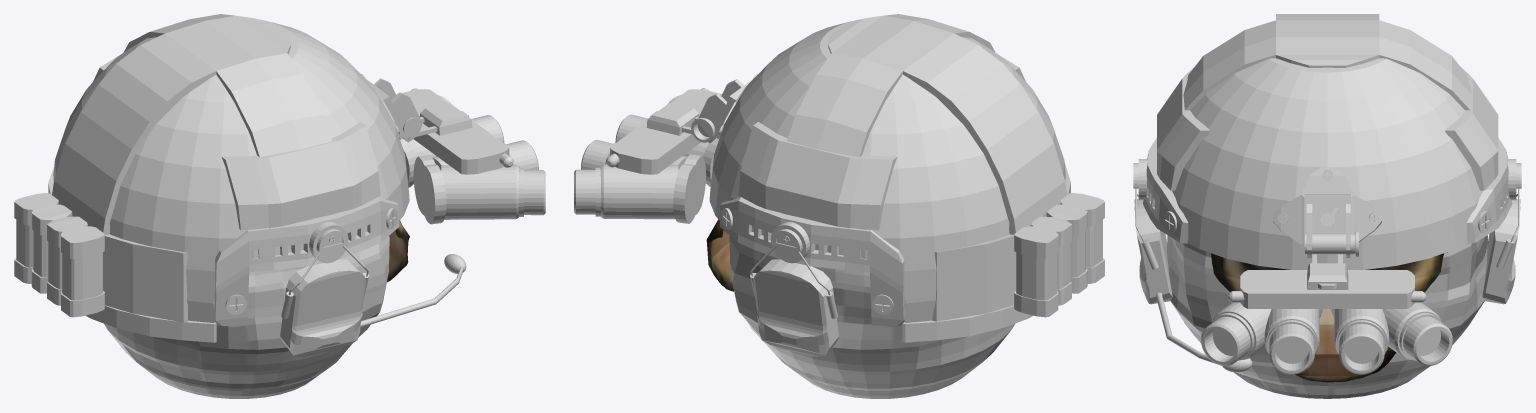
The model's file is FAST Helmet W GPNVGfbx.fbx.
The picture shows the model from 3 angles, left to right: view 1: azimuth 30°, elevation 25°; view 2: azimuth 150°, elevation 25°; view 3: azimuth 270°, elevation 25°; orthographic projection.
Parts seen in each view (by area): view 1: Velcro 2, Main Helmet, Sphere.001, Velcro 1, Side Rail 2, Cube, Cylinder.021, Cube.008, Cube.002, Cube.009, Cylinder.020, Cube.010 (+8 smaller); view 2: Velcro 2, Main Helmet, Sphere.001, Velcro 3, Side Rail 1, Cube.001, Cylinder.018, Cube.008, Cube.002, Cube.009, Cylinder.019, Cube.010 (+7 smaller); view 3: Main Helmet, Velcro 2, Sphere.001, Cube.002, Sphere.002, Velcro 3, Velcro 1, Nvg Mount, Cube.001, Cube, Cylinder.016, Cylinder.023 (+15 smaller).
Part boxes in pixels (bbox=[...]): Velcro 2: bbox=[48, 14, 333, 322]; Main Helmet: bbox=[53, 19, 409, 342]; Sphere.001: bbox=[104, 236, 389, 398]; Velcro 1: bbox=[221, 122, 380, 230]; Side Rail 2: bbox=[214, 197, 399, 325]; Cube: bbox=[280, 259, 365, 356]; Cylinder.021: bbox=[441, 164, 519, 219]; Cube.008: bbox=[16, 220, 102, 300]; Cube.002: bbox=[396, 89, 509, 174]; Cube.009: bbox=[14, 193, 104, 259]; Cylinder.020: bbox=[413, 155, 446, 224]; Cube.010: bbox=[14, 258, 104, 317]; Velcro 2: bbox=[782, 14, 1070, 321]; Main Helmet: bbox=[709, 19, 1065, 342]; Sphere.001: bbox=[729, 236, 1015, 398]; Velcro 3: bbox=[738, 122, 897, 230]; Side Rail 1: bbox=[719, 197, 904, 325]; Cube.001: bbox=[753, 259, 838, 356]; Cylinder.018: bbox=[600, 164, 678, 219]; Cube.008: bbox=[1016, 219, 1102, 300]; Cube.002: bbox=[610, 89, 721, 174]; Cube.009: bbox=[1014, 193, 1104, 259]; Cylinder.019: bbox=[673, 154, 706, 223]; Cube.010: bbox=[1014, 258, 1104, 317]; Main Helmet: bbox=[1172, 58, 1482, 269]; Velcro 2: bbox=[1183, 14, 1471, 110]; Sphere.001: bbox=[1167, 235, 1488, 398]; Cube.002: bbox=[1240, 270, 1414, 308]; Sphere.002: bbox=[1211, 252, 1447, 382]; Velcro 3: bbox=[1445, 67, 1498, 190]; Velcro 1: bbox=[1157, 67, 1210, 190]; Nvg Mount: bbox=[1273, 167, 1381, 245]; Cube.001: bbox=[1482, 198, 1520, 304]; Cube: bbox=[1134, 198, 1172, 304]; Cylinder.016: bbox=[1339, 323, 1384, 374]; Cylinder.023: bbox=[1269, 323, 1314, 374].
Size of the model in its own units: 211 by 144 by 150.
